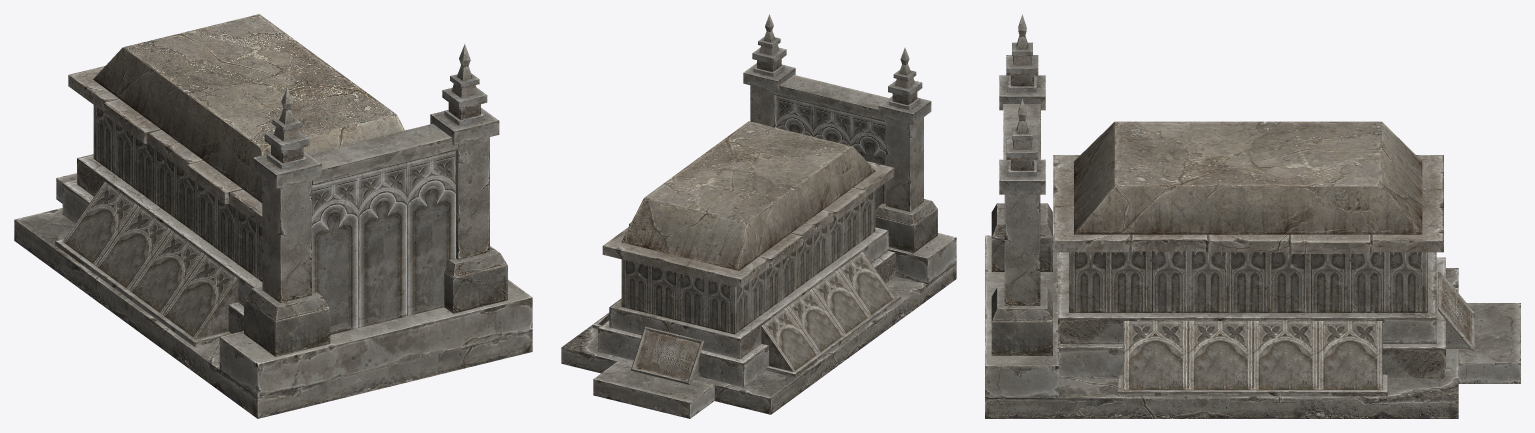
File: bg_lut_lucastle_churchundertomb02_sm_phs.FBX
The picture shows the model from 3 angles, left to right: view 1: azimuth 30°, elevation 25°; view 2: azimuth 150°, elevation 25°; view 3: azimuth 270°, elevation 25°; orthographic projection. The views are drawn at different scales.
Visible parts, largest first — view 1: bg_lut_lucastle_churchundertomb02_sm_phs; view 2: bg_lut_lucastle_churchundertomb02_sm_phs; view 3: bg_lut_lucastle_churchundertomb02_sm_phs.
Boxes of the visible parts, left/top/right/bottom form: bg_lut_lucastle_churchundertomb02_sm_phs: left=14, top=14, right=532, bottom=418; bg_lut_lucastle_churchundertomb02_sm_phs: left=561, top=14, right=956, bottom=418; bg_lut_lucastle_churchundertomb02_sm_phs: left=985, top=14, right=1520, bottom=418.
Size of the model in its own units: 255 by 272 by 443.
